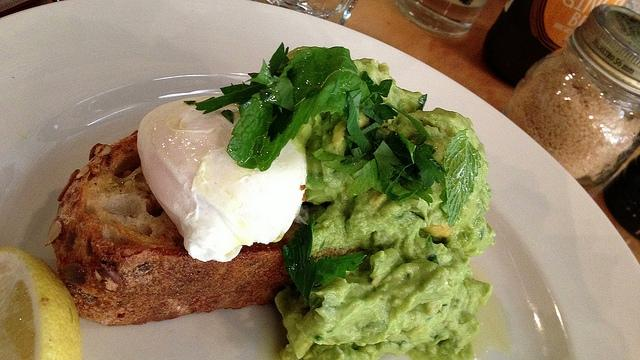lemon: (0, 247, 83, 360)
